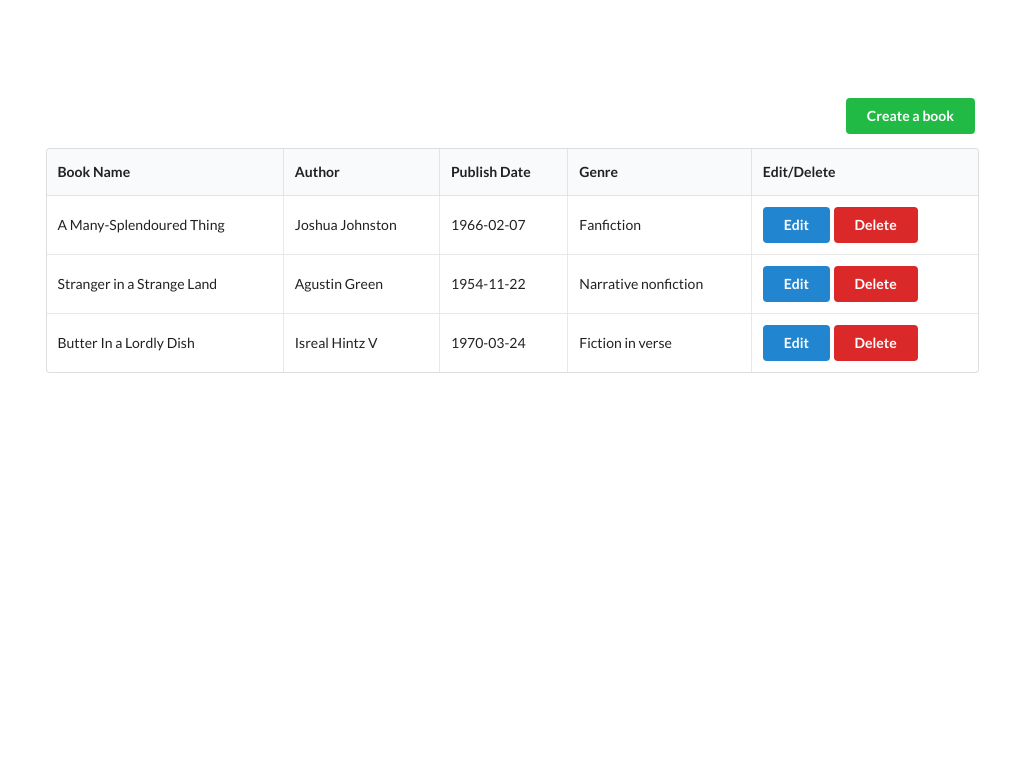
Scenario: deletes the book when the relative delete button is clicked
This screenshot has width=1024, height=768.
Click the button "Delete" in the row of "A Many-Splendoured Thing" at (876, 225), box top-left (834, 207), bottom-right (918, 243)
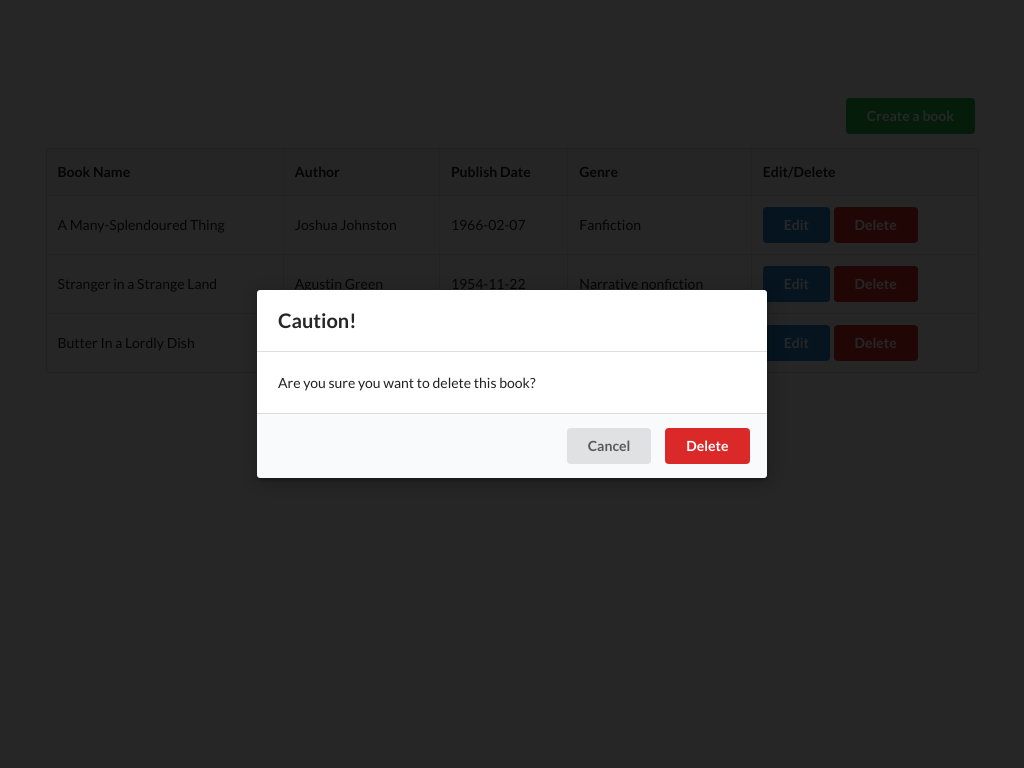
Click the button "Delete" at (707, 446), box top-left (665, 428), bottom-right (750, 464)
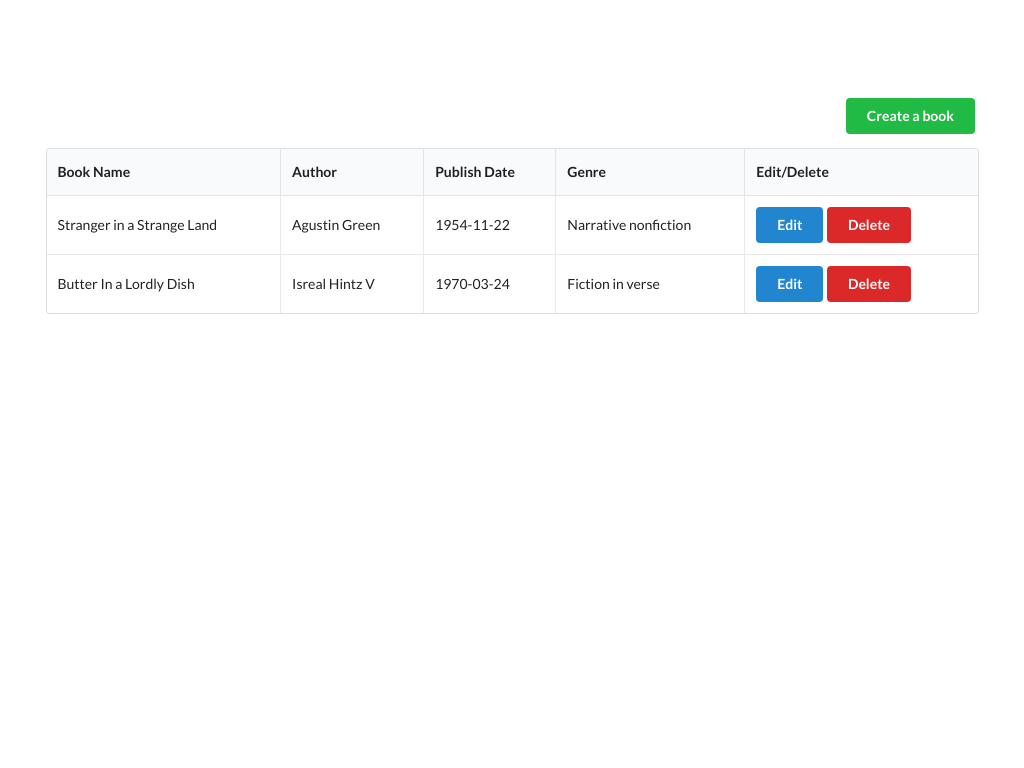
expect the number of rows with test id "tableRow" is 3: met, box top-left (46, 149), bottom-right (978, 196); top-left (46, 196), bottom-right (978, 254); top-left (46, 254), bottom-right (978, 313)
